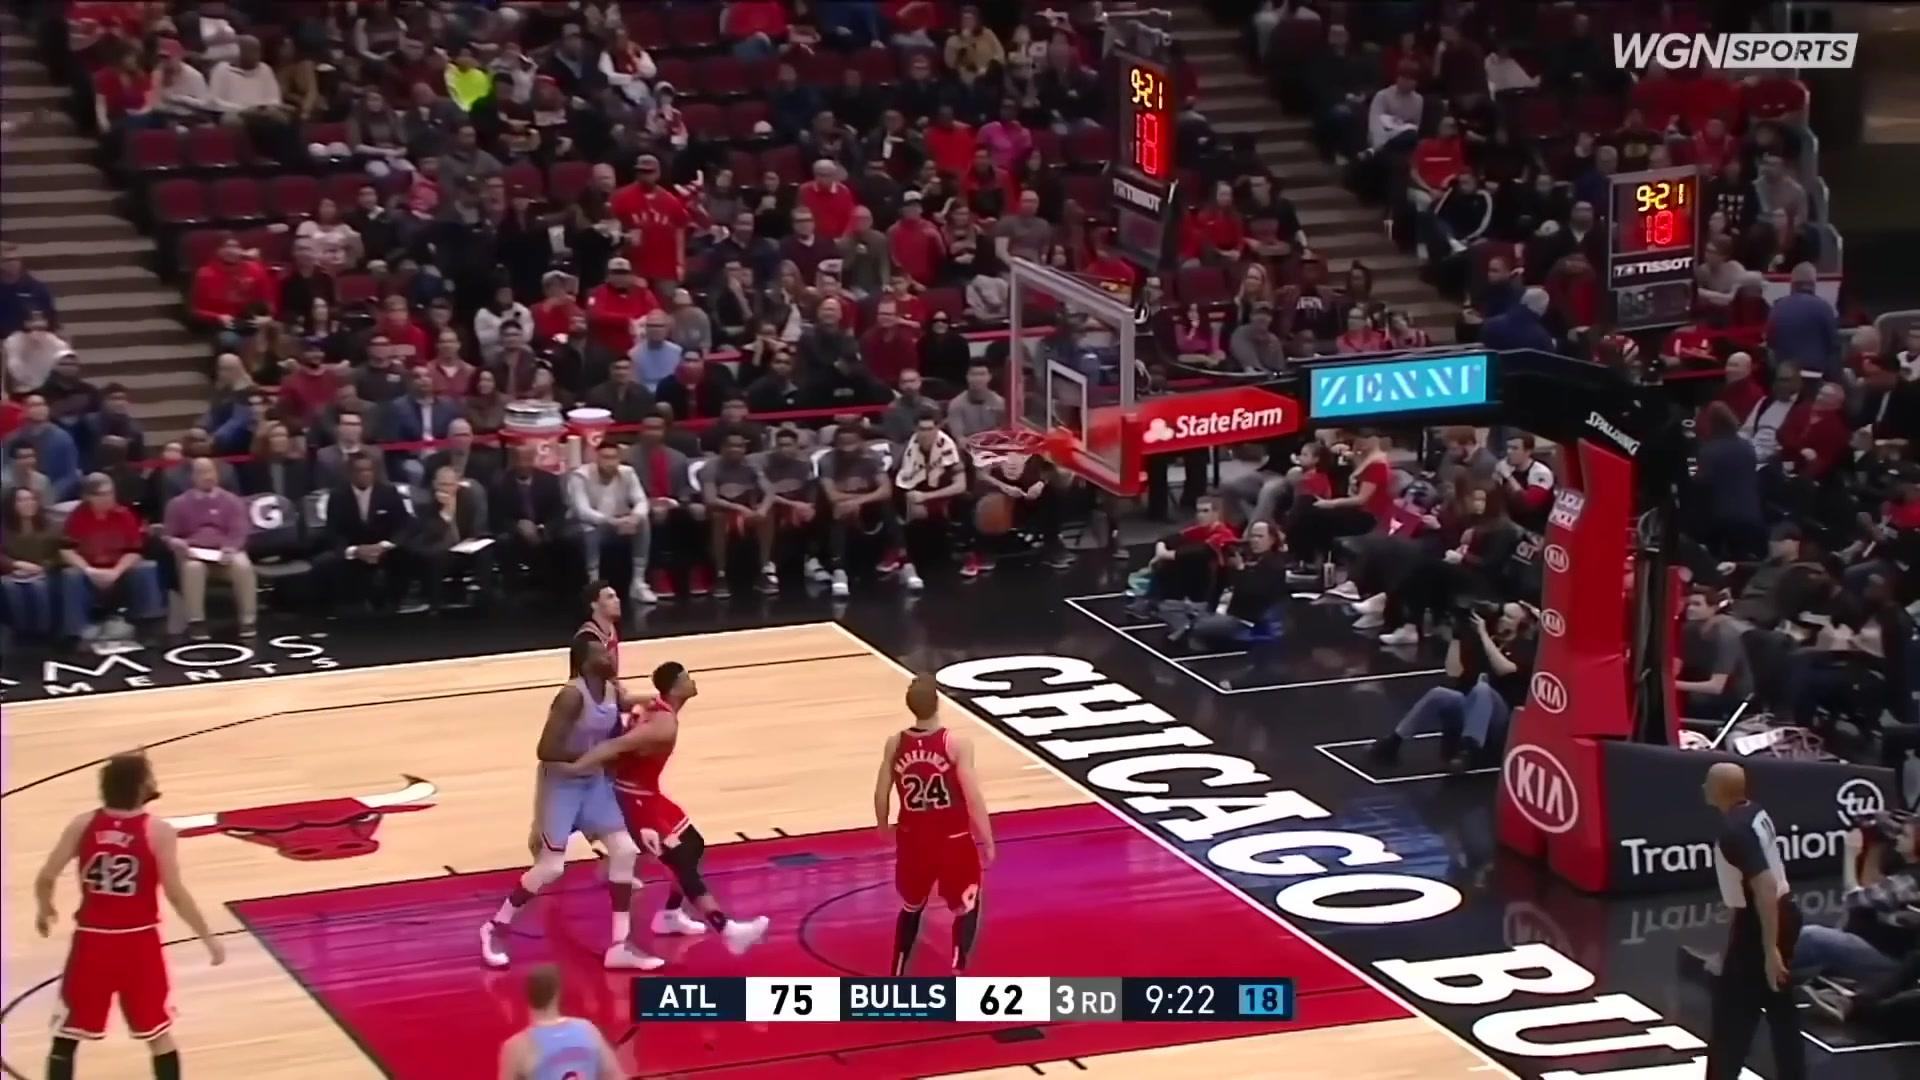foul: (488, 633, 758, 965)
